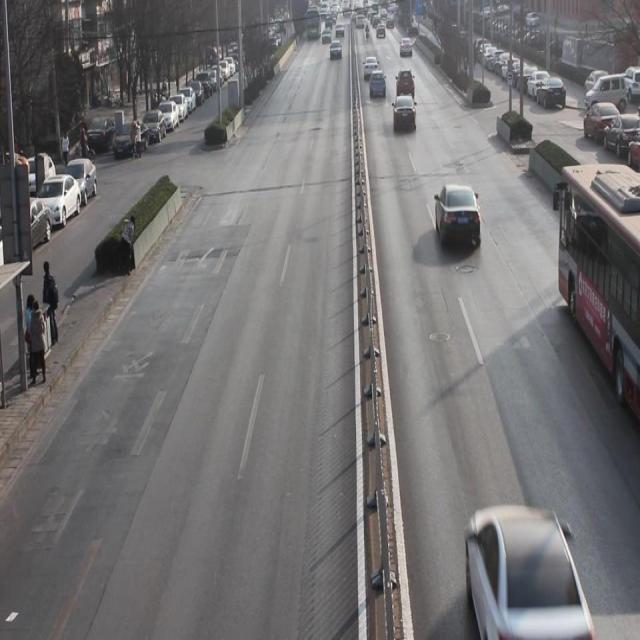car: (464, 506, 591, 634), (434, 183, 484, 252), (392, 96, 417, 136), (395, 70, 416, 96), (369, 68, 386, 100)
van: (558, 167, 640, 416)
